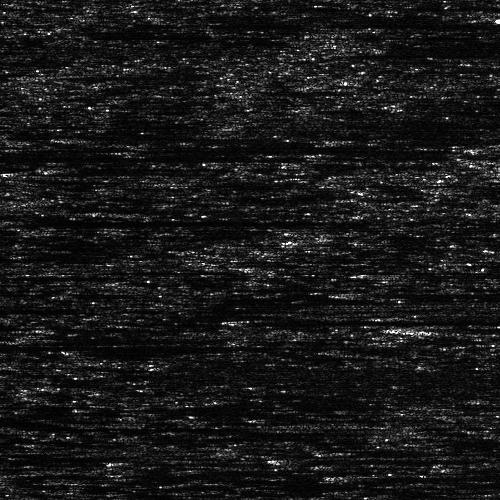rock: (377, 180, 500, 193), (0, 69, 74, 82), (366, 323, 459, 332), (0, 468, 68, 479), (311, 290, 394, 297), (310, 473, 373, 482), (456, 139, 487, 154), (462, 13, 500, 24), (316, 290, 379, 295), (6, 165, 59, 170), (0, 219, 32, 226), (224, 317, 265, 322), (0, 273, 27, 276), (385, 272, 396, 277)
shadow: (1, 468, 500, 479), (0, 453, 213, 468), (6, 219, 246, 226), (0, 152, 322, 157), (342, 473, 500, 482), (0, 344, 244, 349), (353, 290, 500, 297), (33, 69, 95, 82), (413, 323, 500, 332), (348, 290, 500, 295), (445, 180, 500, 193), (33, 165, 156, 170), (391, 272, 500, 277), (472, 139, 500, 154), (1, 273, 120, 276), (245, 317, 308, 322)
